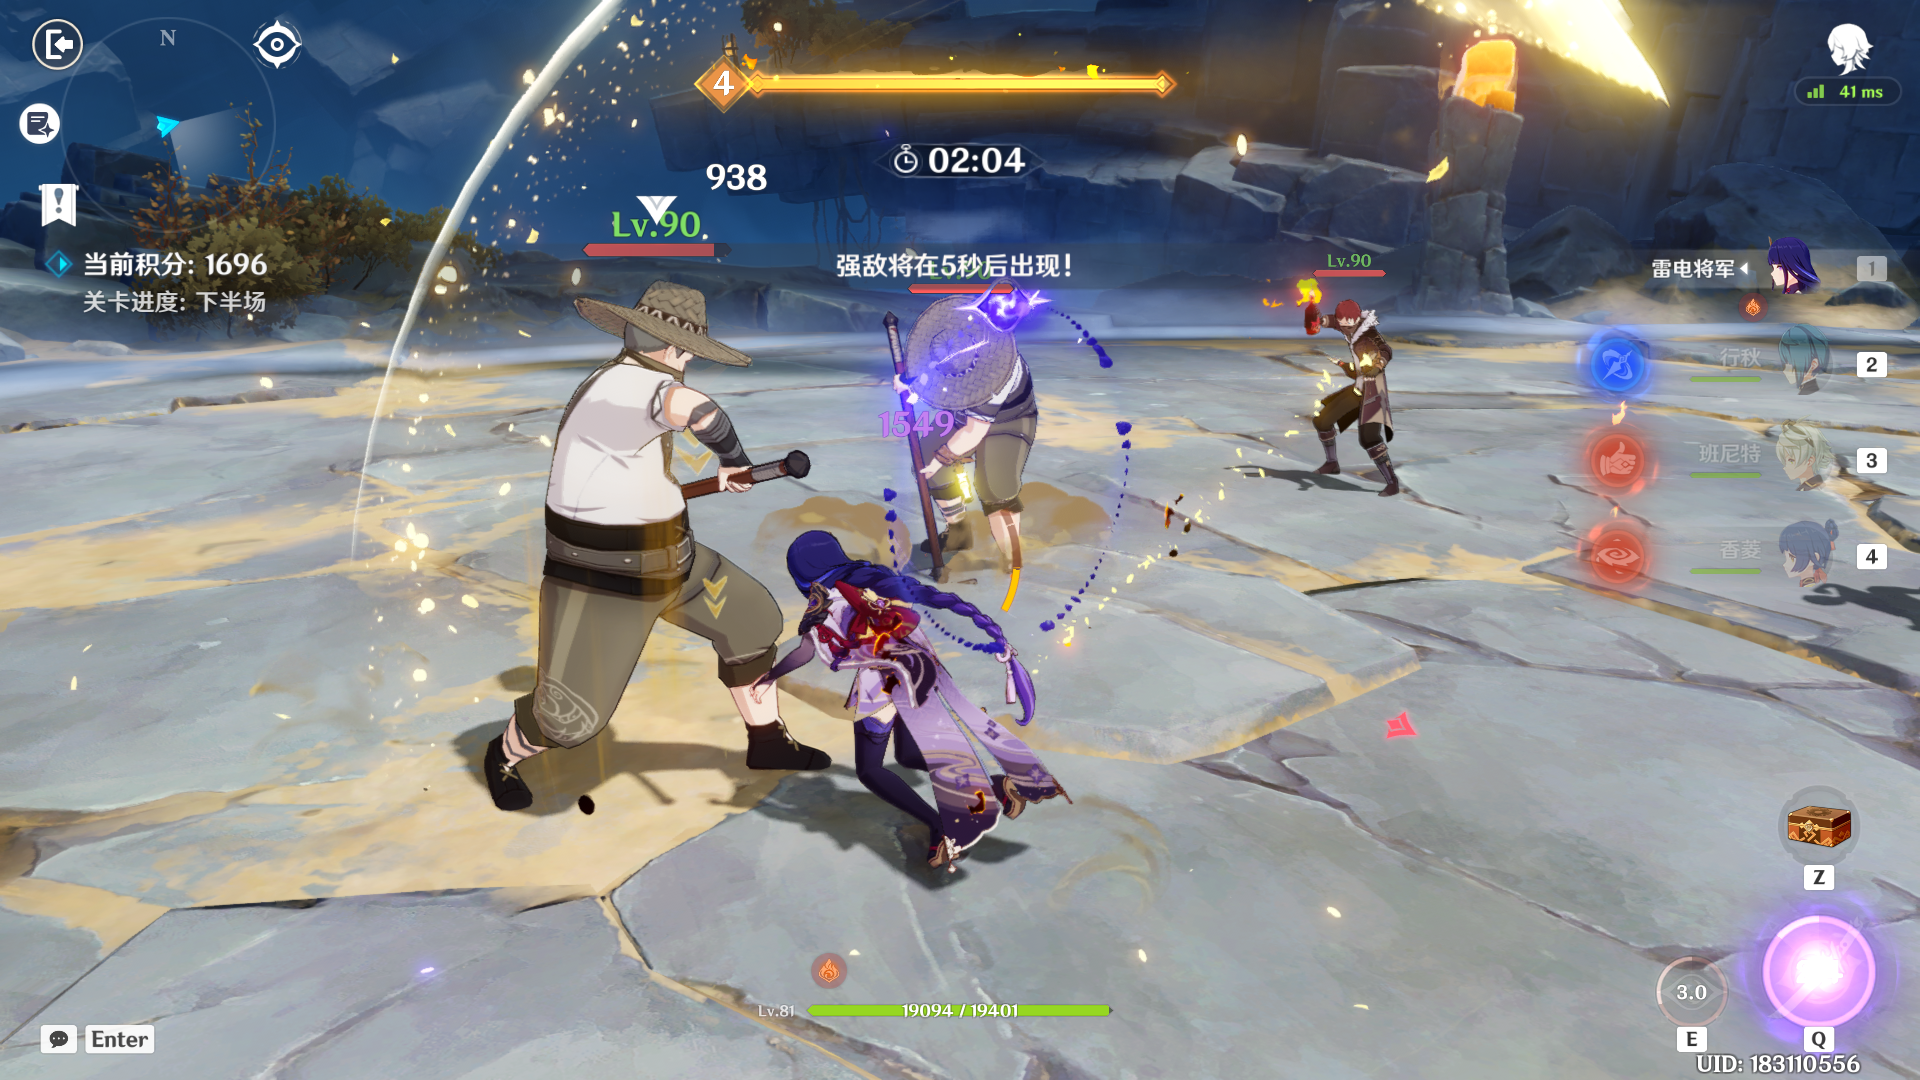character: (725, 517, 1079, 975)
robber: (487, 262, 836, 866), (845, 272, 1079, 618), (1287, 273, 1470, 545)
